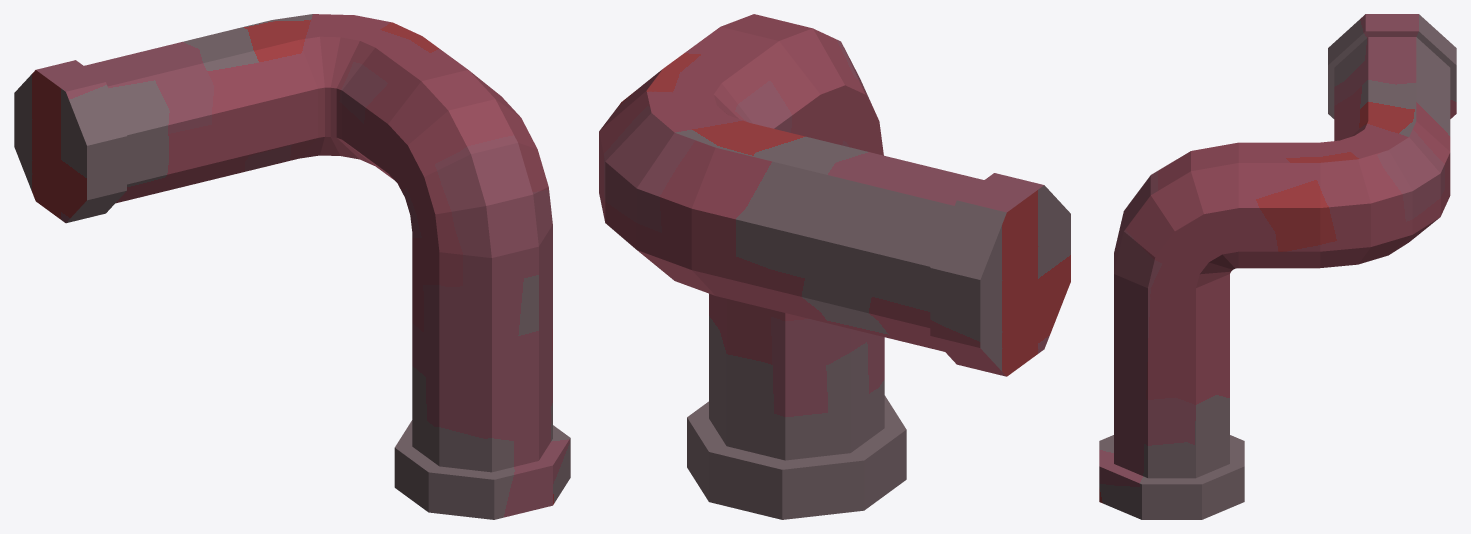
File: pipe.fbx
The picture shows the model from 3 angles, left to right: view 1: azimuth 30°, elevation 25°; view 2: azimuth 150°, elevation 25°; view 3: azimuth 270°, elevation 25°; orthographic projection. The views are drawn at different scales.
Visible parts, largest first — view 1: Circle; view 2: Circle; view 3: Circle.
Boxes of the visible parts, left/top/right/bottom form: Circle: left=14, top=14, right=570, bottom=519; Circle: left=599, top=14, right=1070, bottom=519; Circle: left=1099, top=14, right=1456, bottom=519.
Bounding box in the file's own units: 1.85 × 1.8 × 1.7.
Materials: 1 (1 with a texture image).
